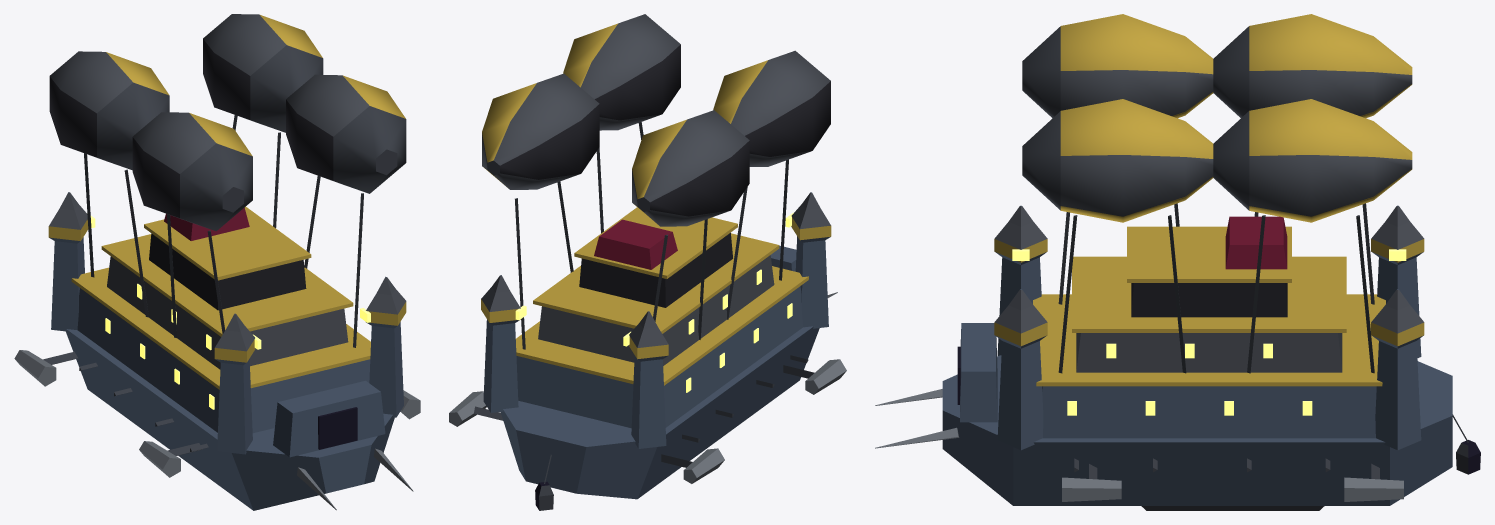
The model's file is SM_Ship_TartarusAloft_LQ.glb.
The picture shows the model from 3 angles, left to right: view 1: azimuth 30°, elevation 25°; view 2: azimuth 150°, elevation 25°; view 3: azimuth 270°, elevation 25°; orthographic projection. The views are drawn at different scales.
Parts seen in each view (by area): view 1: SM_Ship_TartarusAloft_LQ; view 2: SM_Ship_TartarusAloft_LQ; view 3: SM_Ship_TartarusAloft_LQ.
Part boxes in pixels (x1=…): SM_Ship_TartarusAloft_LQ: x1=14, y1=14, x2=420, y2=510; SM_Ship_TartarusAloft_LQ: x1=449, y1=14, x2=846, y2=510; SM_Ship_TartarusAloft_LQ: x1=875, y1=14, x2=1480, y2=510.
Size of the model in its own units: 21.52 by 30.55 by 38.6.
1 material, 1 textured.
